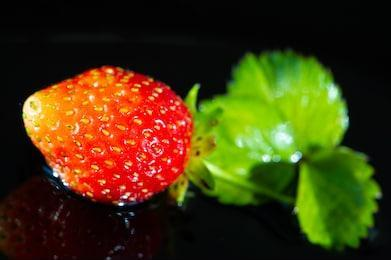Fresa: (21, 61, 207, 208)
